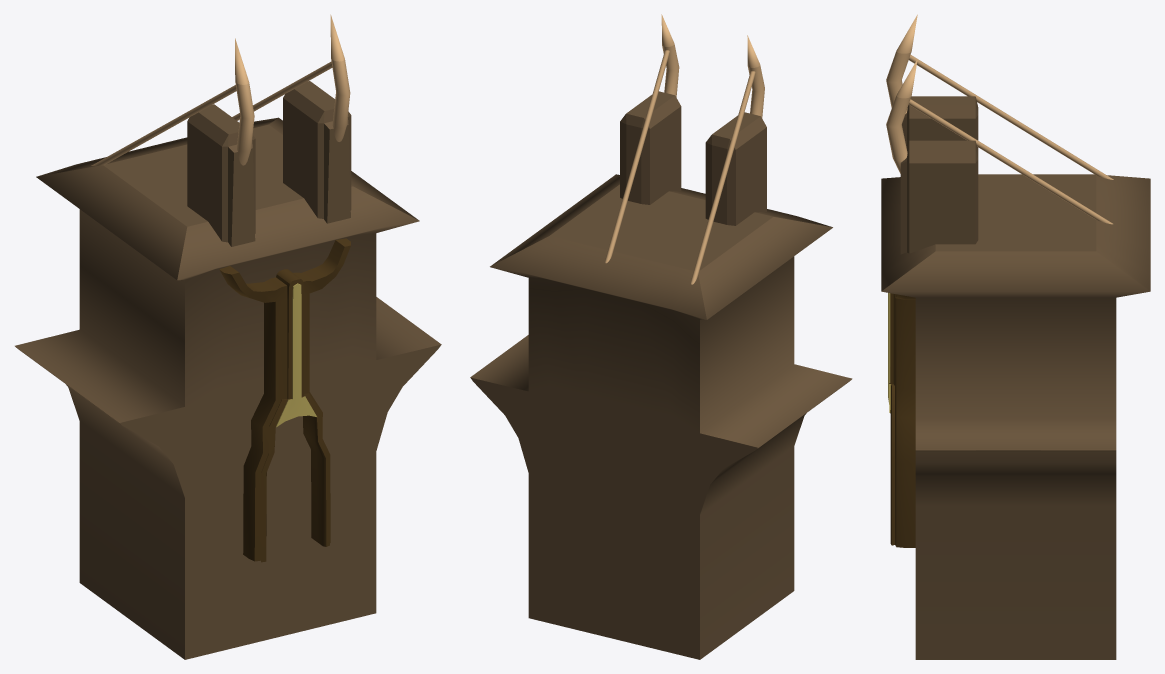
File: pokey building color.fbx
3 views of the same model, side by side, from view 1: azimuth 30°, elevation 25°; view 2: azimuth 150°, elevation 25°; view 3: azimuth 270°, elevation 25° (orthographic). The views are drawn at different scales.
Parts seen in each view (by area): view 1: building, building_front_design, right_base, Rachet_and_Clank_scene_models2_2:pCube8, Rachet_and_Clank_scene_models2_2:pCylinder7, right_pokey, right_rope, Rachet_and_Clank_scene_models2_2:pCylinder8; view 2: building, Rachet_and_Clank_scene_models2_2:pCube8, right_base, Rachet_and_Clank_scene_models2_2:pCylinder8, right_rope, right_pokey, Rachet_and_Clank_scene_models2_2:pCylinder7; view 3: building, Rachet_and_Clank_scene_models2_2:pCube8, building_front_design, right_base, right_rope, Rachet_and_Clank_scene_models2_2:pCylinder8, Rachet_and_Clank_scene_models2_2:pCylinder7, right_pokey.
Boxes of the visible parts, left/top/right/bottom form: building: left=15, top=117, right=441, bottom=659; building_front_design: left=219, top=238, right=350, bottom=562; right_base: left=187, top=104, right=255, bottom=246; Rachet_and_Clank_scene_models2_2:pCube8: left=283, top=81, right=351, bottom=223; Rachet_and_Clank_scene_models2_2:pCylinder7: left=330, top=14, right=350, bottom=141; right_pokey: left=235, top=38, right=254, bottom=165; right_rope: left=91, top=85, right=236, bottom=165; Rachet_and_Clank_scene_models2_2:pCylinder8: left=232, top=61, right=332, bottom=120; building: left=470, top=174, right=852, bottom=659; Rachet_and_Clank_scene_models2_2:pCube8: left=620, top=91, right=681, bottom=204; right_base: left=705, top=112, right=766, bottom=225; Rachet_and_Clank_scene_models2_2:pCylinder8: left=605, top=50, right=669, bottom=263; right_rope: left=691, top=71, right=755, bottom=284; right_pokey: left=747, top=35, right=764, bottom=117; Rachet_and_Clank_scene_models2_2:pCylinder7: left=661, top=14, right=679, bottom=97; building: left=881, top=174, right=1150, bottom=659; Rachet_and_Clank_scene_models2_2:pCube8: left=900, top=140, right=978, bottom=254; building_front_design: left=888, top=293, right=915, bottom=547; right_base: left=902, top=96, right=978, bottom=150; right_rope: left=909, top=54, right=1113, bottom=179; Rachet_and_Clank_scene_models2_2:pCylinder8: left=908, top=99, right=1112, bottom=224; Rachet_and_Clank_scene_models2_2:pCylinder7: left=886, top=59, right=917, bottom=173; right_pokey: left=886, top=14, right=917, bottom=113.
Bounding box in the file's own units: 7.59 × 13.73 × 5.77.
